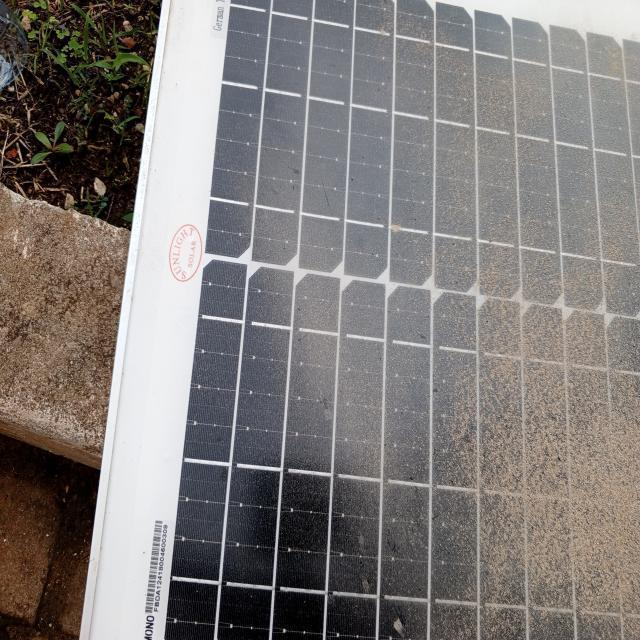Anomaly Solar Panel: (115, 0, 640, 640)
Surface Contaminant: (226, 16, 639, 639)
